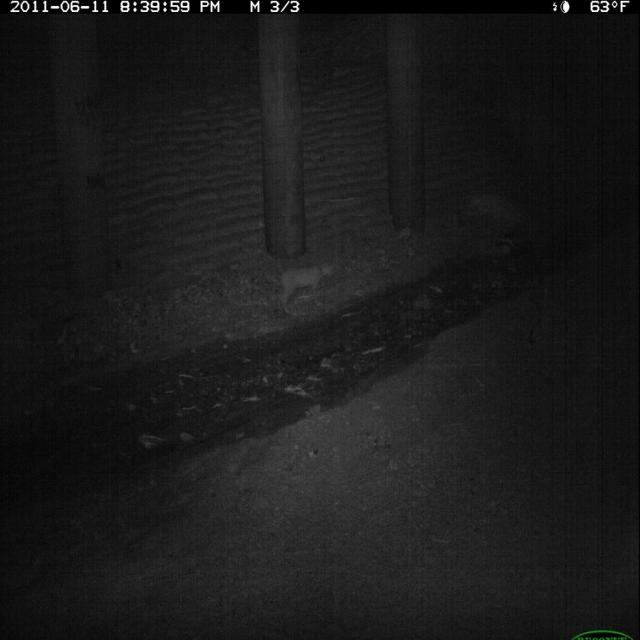bobcat: (275, 256, 340, 321)
